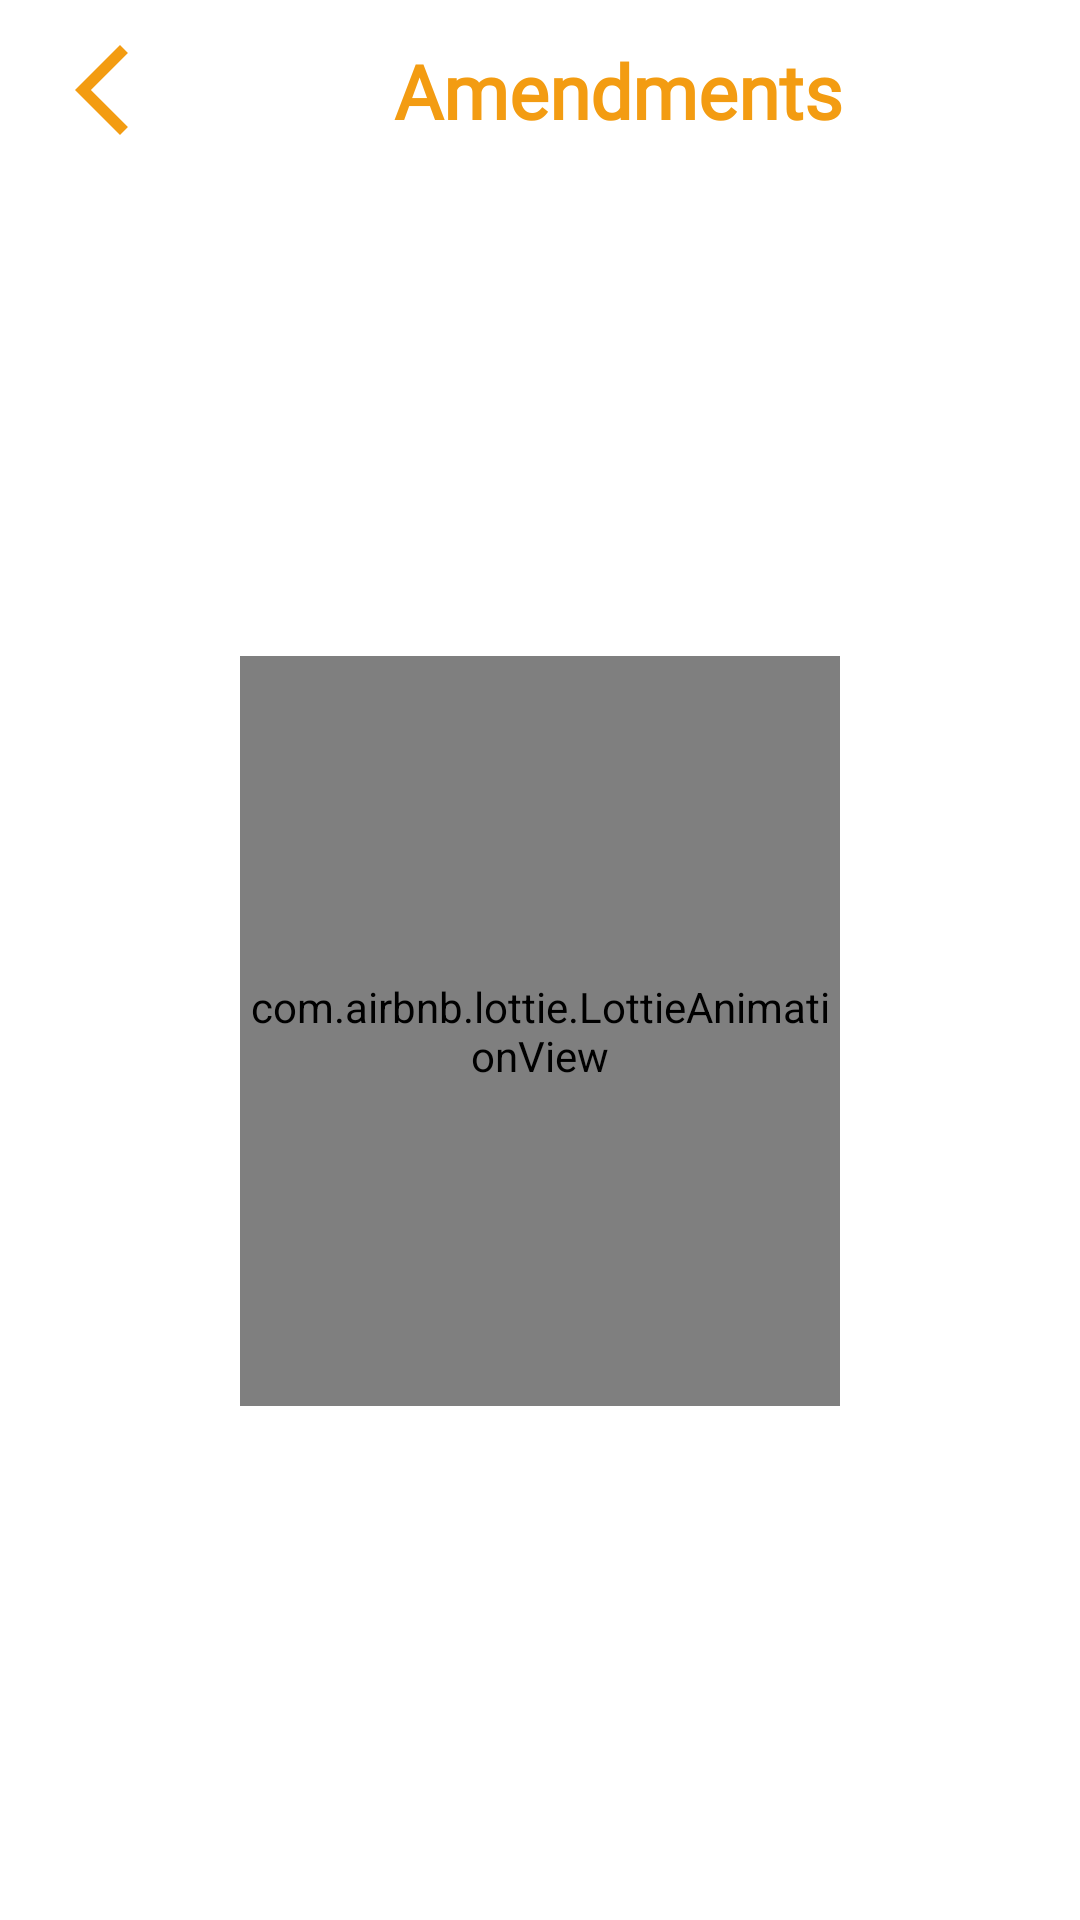

Icons on this 1080w x 1920h Android screen, each with the point to tap as point (x, y):
back: point (101, 90)
